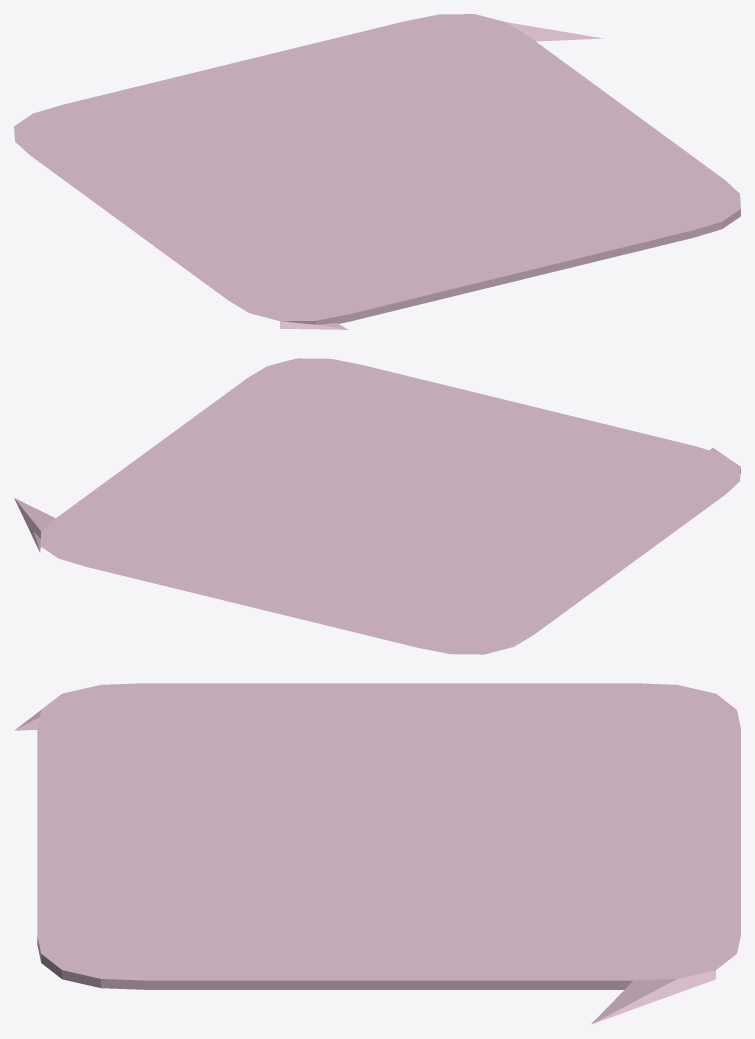
File: Ham.fbx
The picture shows the model from 3 angles, top to bottom: view 1: azimuth 30°, elevation 25°; view 2: azimuth 150°, elevation 25°; view 3: azimuth 270°, elevation 25°; orthographic projection. The views are drawn at different scales.
Visible parts, largest first — view 1: Ham; view 2: Ham; view 3: Ham.
Boxes of the visible parts, x1,y1,x2,y2 form: Ham: (14, 14, 740, 329); Ham: (14, 358, 740, 654); Ham: (14, 683, 740, 1024).
Size of the model in its own units: 201 by 2.6 by 185.
